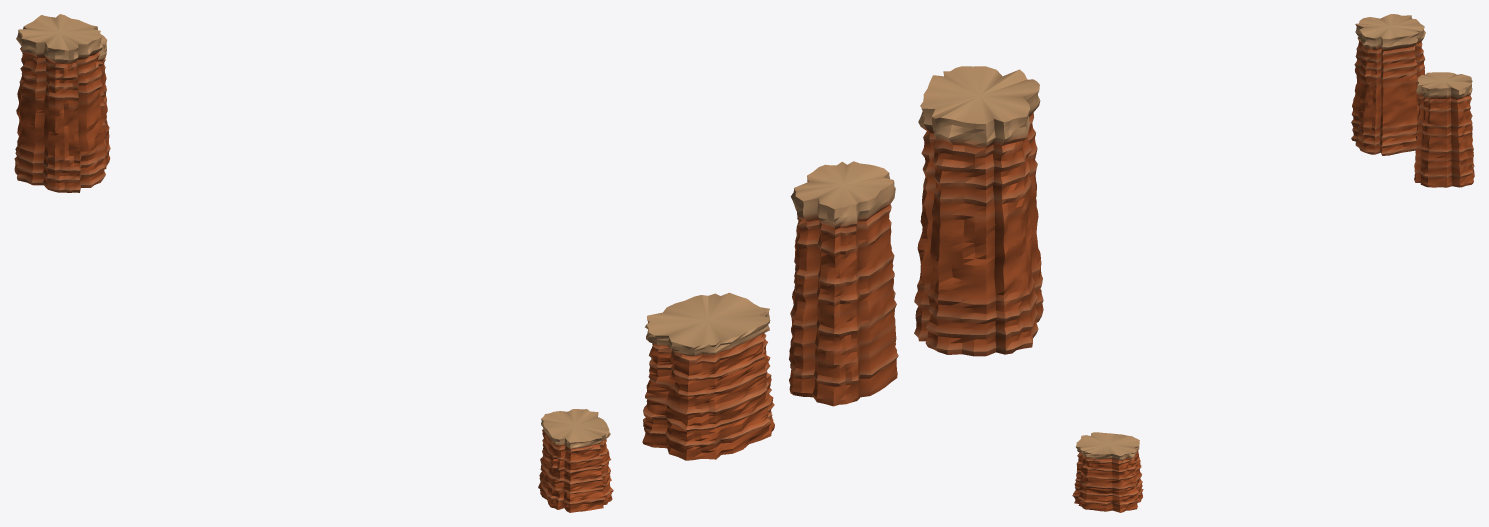
File: terrain-090.glb
3 views of the same model, side by side, from view 1: azimuth 30°, elevation 25°; view 2: azimuth 150°, elevation 25°; view 3: azimuth 270°, elevation 25° (orthographic). The views are drawn at different scales.
Parts seen in each view (by area): view 1: terrain-090; view 2: terrain-090; view 3: terrain-090.
Boxes of the visible parts, <box> form: terrain-090: <box>14,14,613,512</box>; terrain-090: <box>642,66,1043,460</box>; terrain-090: <box>1072,14,1474,512</box>.
Size of the model in its own units: 177 by 172 by 185.
